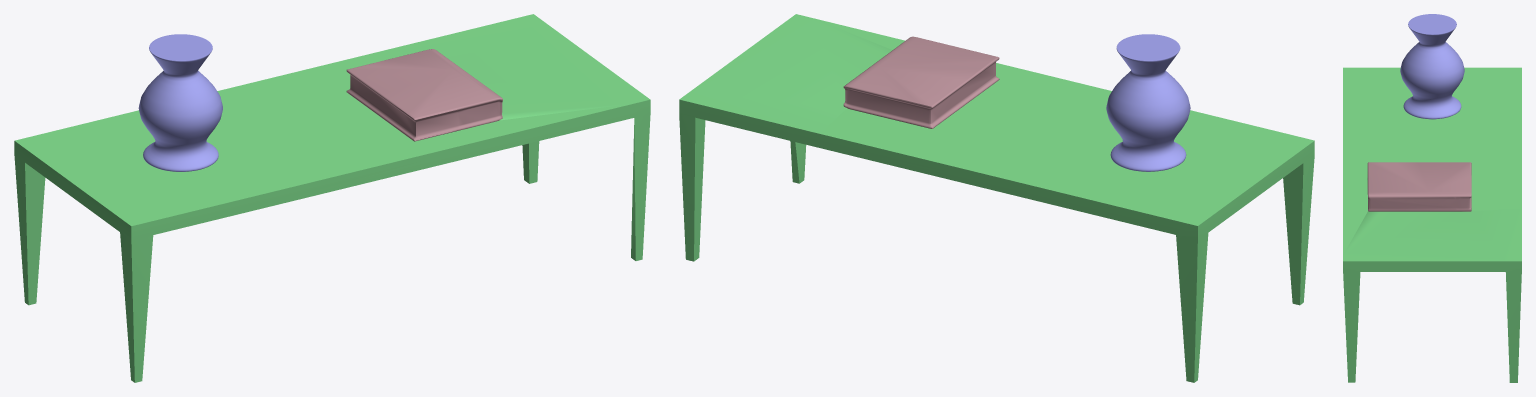
3 renders of one model, left to right at view 1: azimuth 30°, elevation 25°; view 2: azimuth 150°, elevation 25°; view 3: azimuth 270°, elevation 25°, orthographic. The views are drawn at different scales.
Visible parts, largest first — view 1: split_parent_1, Cube.021_paper_0, Cylinder_Material.002_0; view 2: split_parent_1, Cube.021_paper_0, Cylinder_Material.002_0; view 3: split_parent_1, Cube.021_paper_0, Cylinder_Material.002_0.
Boxes of the visible parts, left/top/right/bottom form: split_parent_1: left=14, top=14, right=650, bottom=382; Cube.021_paper_0: left=346, top=49, right=502, bottom=141; Cylinder_Material.002_0: left=138, top=34, right=222, bottom=171; split_parent_1: left=679, top=14, right=1314, bottom=382; Cube.021_paper_0: left=843, top=36, right=999, bottom=128; Cylinder_Material.002_0: left=1106, top=34, right=1190, bottom=171; split_parent_1: left=1343, top=67, right=1521, bottom=382; Cube.021_paper_0: left=1367, top=162, right=1471, bottom=211; Cylinder_Material.002_0: left=1400, top=14, right=1464, bottom=119.
Size of the model in its own units: 1 by 0.4984 by 0.3903.
